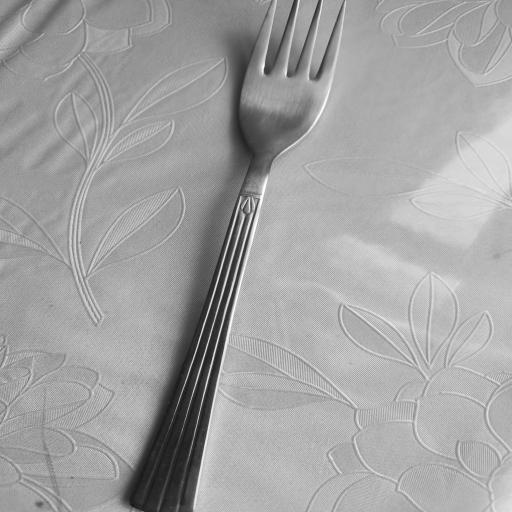fork: (123, 1, 349, 512)
